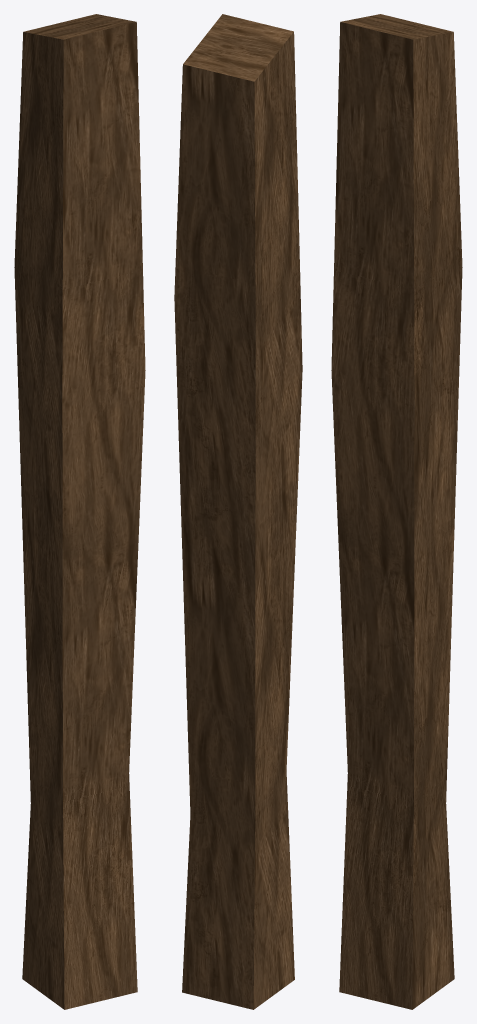
File: WoodenPlank05.fbx
The picture shows the model from 3 angles, left to right: view 1: azimuth 30°, elevation 25°; view 2: azimuth 150°, elevation 25°; view 3: azimuth 330°, elevation 25°; orthographic projection. The views are drawn at different scales.
Visible parts, largest first — view 1: WoodenPlank05; view 2: WoodenPlank05; view 3: WoodenPlank05.
Boxes of the visible parts, x1,y1,x2,y2 form: WoodenPlank05: (14,14,145,1009); WoodenPlank05: (174,14,302,1009); WoodenPlank05: (331,14,462,1009).
Size of the model in its own units: 0.1677 by 1.87 by 0.1677.
